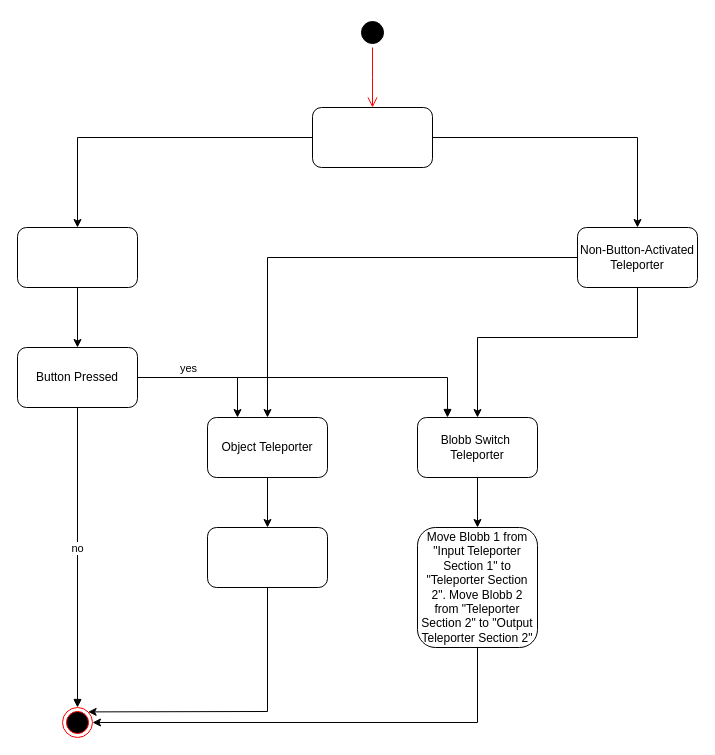
The diagram is 715 pixels wide and 755 high, and some of its shapes have lost their labels. The shapes that lost their labels are listed below. From the top down, each one's centre as x and y in pixels, then its label:
point 372,137: Teleporter
point 77,257: Button-Activated Teleporter
point 267,557: Move Object from "Teleporter Section 1" to "Teleporter Section 2"
